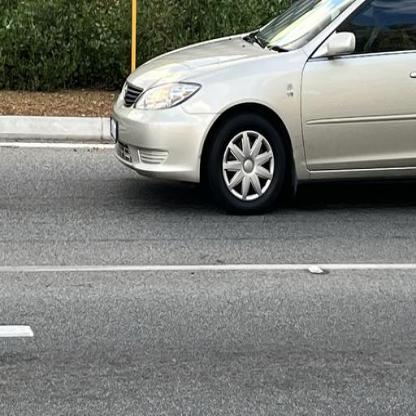Tire: (211, 112, 288, 214)
